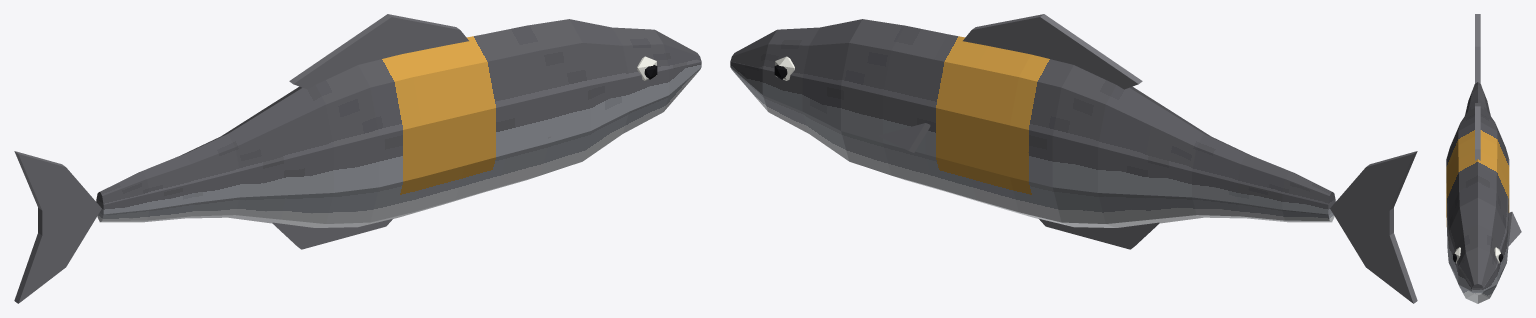
The model's file is amberjack.glb.
3 views of the same model, side by side, from view 1: azimuth 30°, elevation 25°; view 2: azimuth 150°, elevation 25°; view 3: azimuth 270°, elevation 25° (orthographic). The views are drawn at different scales.
Visible parts, largest first — view 1: fish_amberjack; view 2: fish_amberjack; view 3: fish_amberjack.
Boxes of the visible parts, <box> form: fish_amberjack: <box>14,14,701,303</box>; fish_amberjack: <box>730,14,1417,303</box>; fish_amberjack: <box>1446,14,1521,303</box>.
Size of the model in its own units: 1.14 by 0.337 by 0.1619.
Materials: 4 (1 with a texture image).
